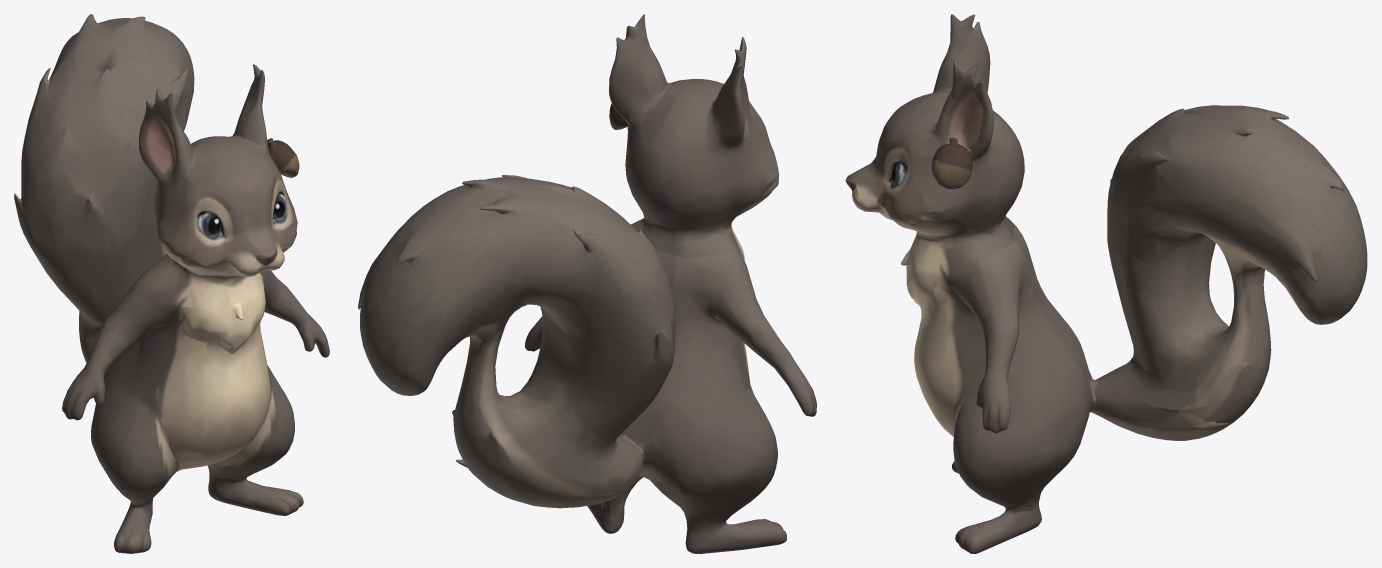
The model's file is Meshy_AI_Acorn_Guardian_0923182156_texture (1).glb.
3 views of the same model, side by side, from view 1: azimuth 30°, elevation 25°; view 2: azimuth 150°, elevation 25°; view 3: azimuth 270°, elevation 25° (orthographic). The views are drawn at different scales.
Visible parts, largest first — view 1: tripo_node_18718a97-d502-4b52-b092-1a8373724ede; view 2: tripo_node_18718a97-d502-4b52-b092-1a8373724ede; view 3: tripo_node_18718a97-d502-4b52-b092-1a8373724ede.
Boxes of the visible parts, x1,y1,x2,y2 form: tripo_node_18718a97-d502-4b52-b092-1a8373724ede: [14, 14, 329, 553]; tripo_node_18718a97-d502-4b52-b092-1a8373724ede: [358, 14, 816, 553]; tripo_node_18718a97-d502-4b52-b092-1a8373724ede: [845, 14, 1367, 553].
Size of the model in its own units: 0.6194 by 1 by 0.9973.
Materials: 1 (1 with a texture image).
